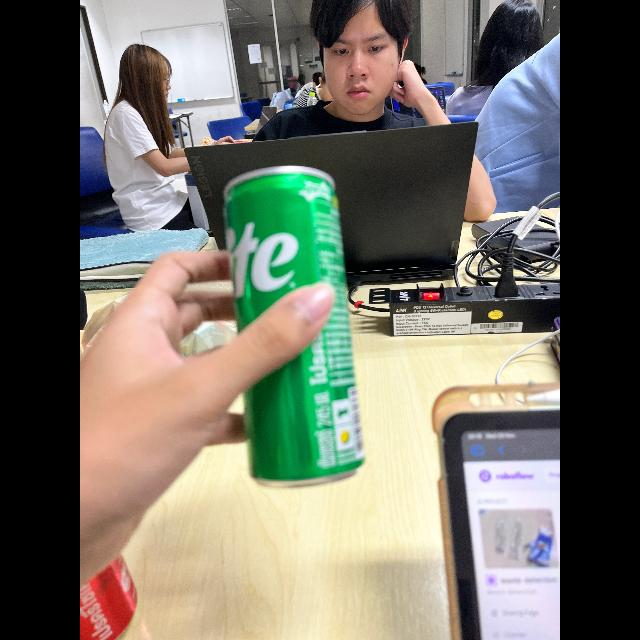can: (208, 163, 376, 494)
